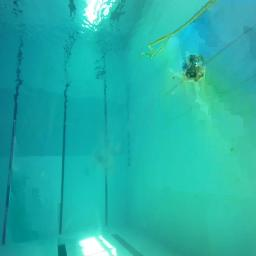Full: (184, 61, 204, 81)
